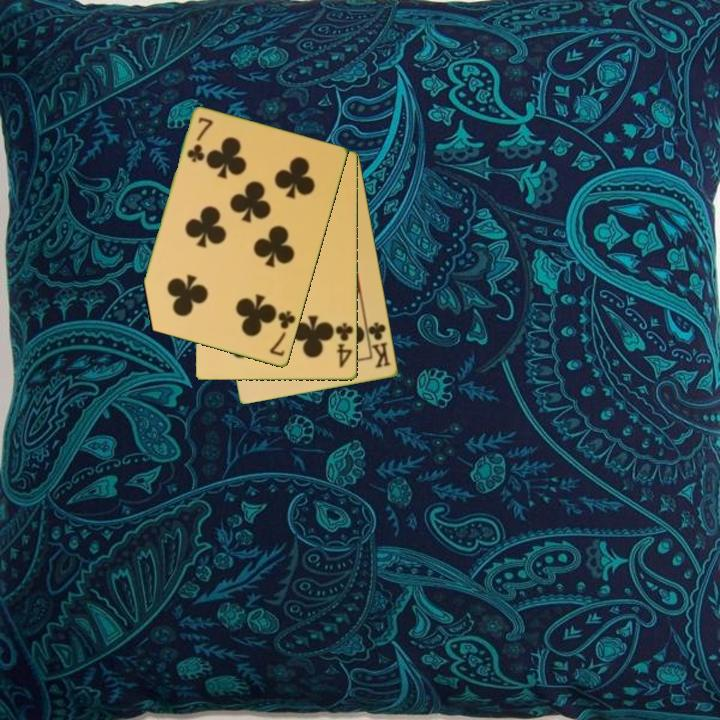4c: (332, 320, 356, 371)
7c: (266, 307, 299, 359), (184, 114, 216, 166)
Kc: (363, 318, 394, 371)
